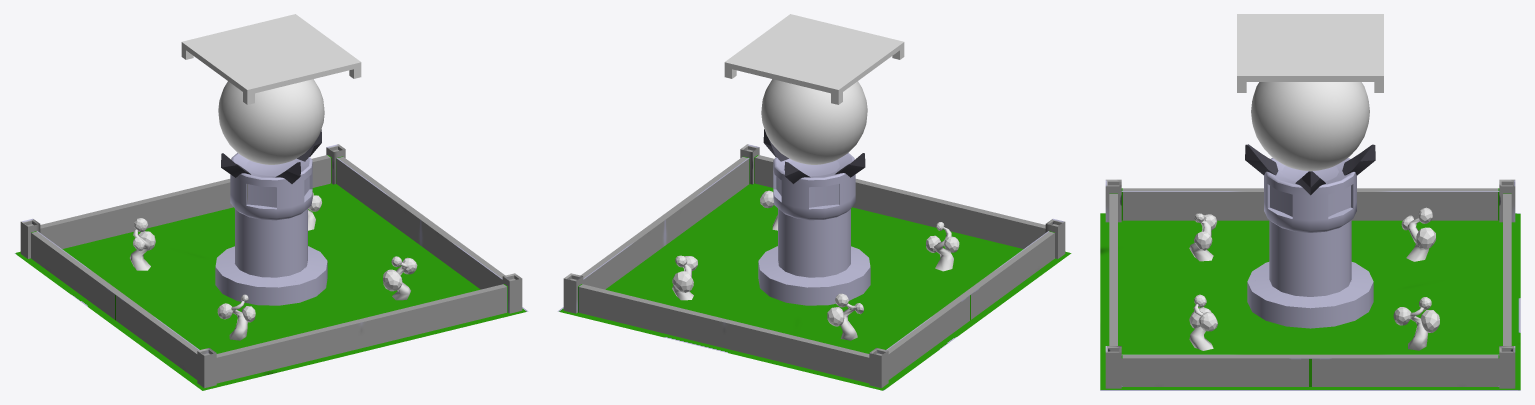
Rendered from Wiztower.fbx.
3 views of the same model, side by side, from view 1: azimuth 30°, elevation 25°; view 2: azimuth 150°, elevation 25°; view 3: azimuth 270°, elevation 25° (orthographic). The views are drawn at different scales.
Parts seen in each view (by area): view 1: Wiztower_Base, Wiztower_Border, WizTower_Tower, Wiztower_Tile, Wiztower_Orb, Tree, Wiztower_Claws; view 2: Wiztower_Base, Wiztower_Border, WizTower_Tower, Wiztower_Tile, Wiztower_Orb, Tree, Wiztower_Claws; view 3: Wiztower_Base, Wiztower_Border, WizTower_Tower, Wiztower_Tile, Wiztower_Orb, Tree, Wiztower_Claws.
Boxes of the visible parts, x1,y1,x2,y2 form: Wiztower_Base: (14,183,528,390); Wiztower_Border: (20,144,522,387); WizTower_Tower: (215,153,327,305); Wiztower_Tile: (181,14,361,104); Wiztower_Orb: (218,79,324,164); Tree: (130,192,417,340); Wiztower_Claws: (221,129,321,183); Wiztower_Base: (557,183,1071,390); Wiztower_Border: (563,144,1065,387); WizTower_Tower: (758,153,870,305); Wiztower_Tile: (724,14,904,104); Wiztower_Orb: (761,79,867,164); Tree: (672,190,959,340); Wiztower_Claws: (763,129,865,183); Wiztower_Base: (1100,213,1520,390); Wiztower_Border: (1105,179,1515,388); WizTower_Tower: (1247,157,1373,328); Wiztower_Tile: (1237,14,1383,92); Wiztower_Orb: (1251,82,1369,171); Tree: (1189,207,1439,350); Wiztower_Claws: (1245,144,1375,195).
Size of the model in its own units: 200 by 135 by 200.
